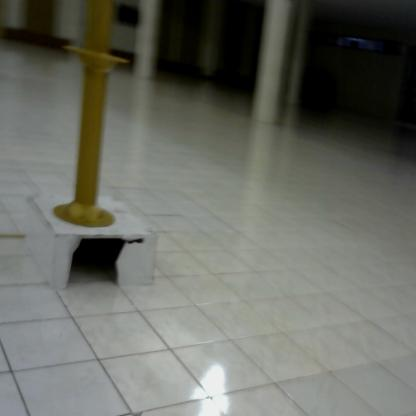pole: (46, 1, 138, 236)
